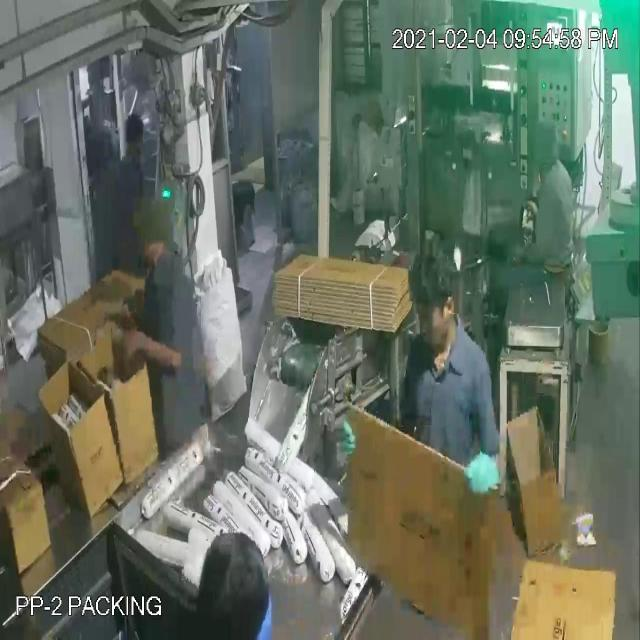gloves: (453, 429, 525, 532)
no-gloves: (118, 312, 190, 398)
